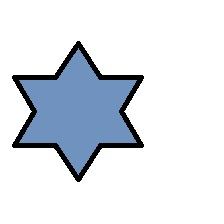star: (10, 41, 144, 184)
